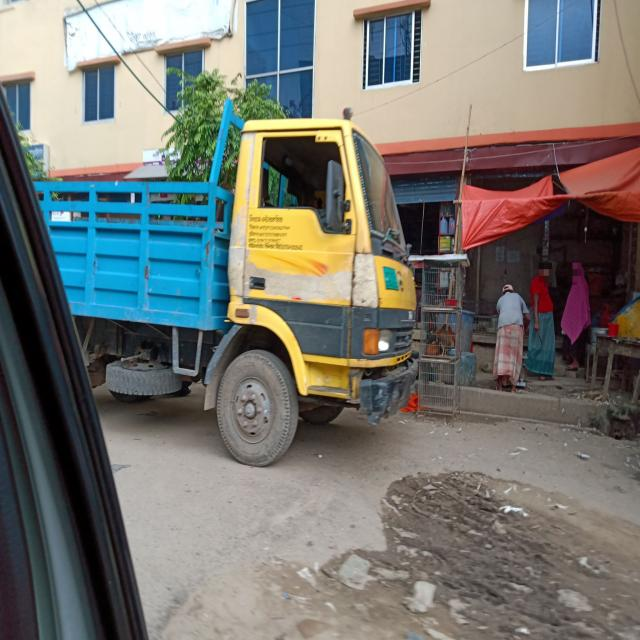truck: (21, 112, 421, 482)
